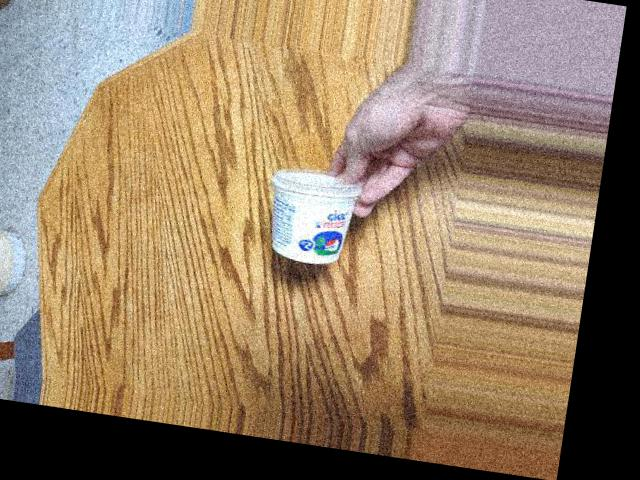cotage: (251, 146, 382, 271)
